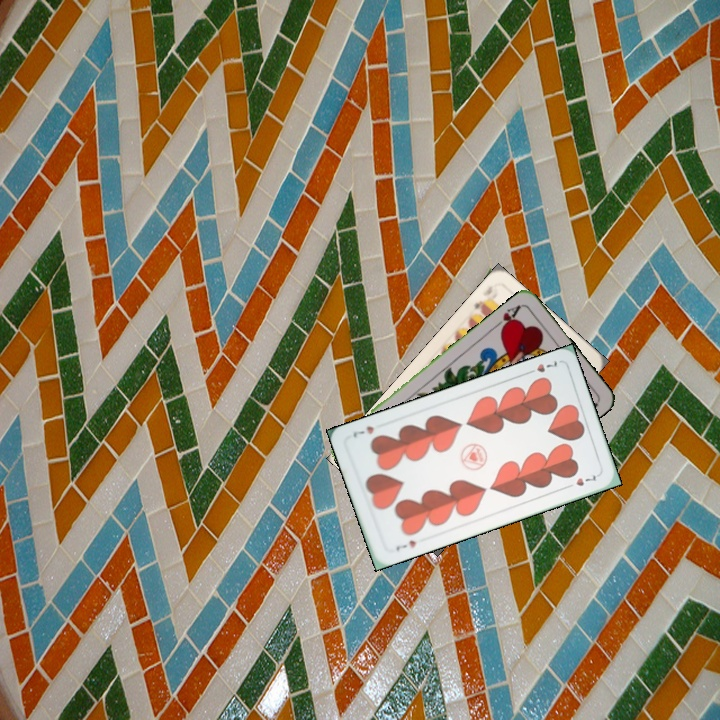E10: (470, 292, 491, 315)
H7: (522, 356, 560, 377), (392, 536, 418, 553)
HA: (489, 301, 524, 335)
